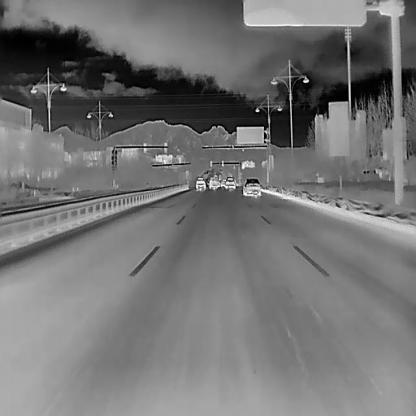car: (243, 177, 261, 197), (194, 176, 206, 190), (208, 177, 219, 190), (225, 176, 235, 190), (219, 177, 227, 189)
